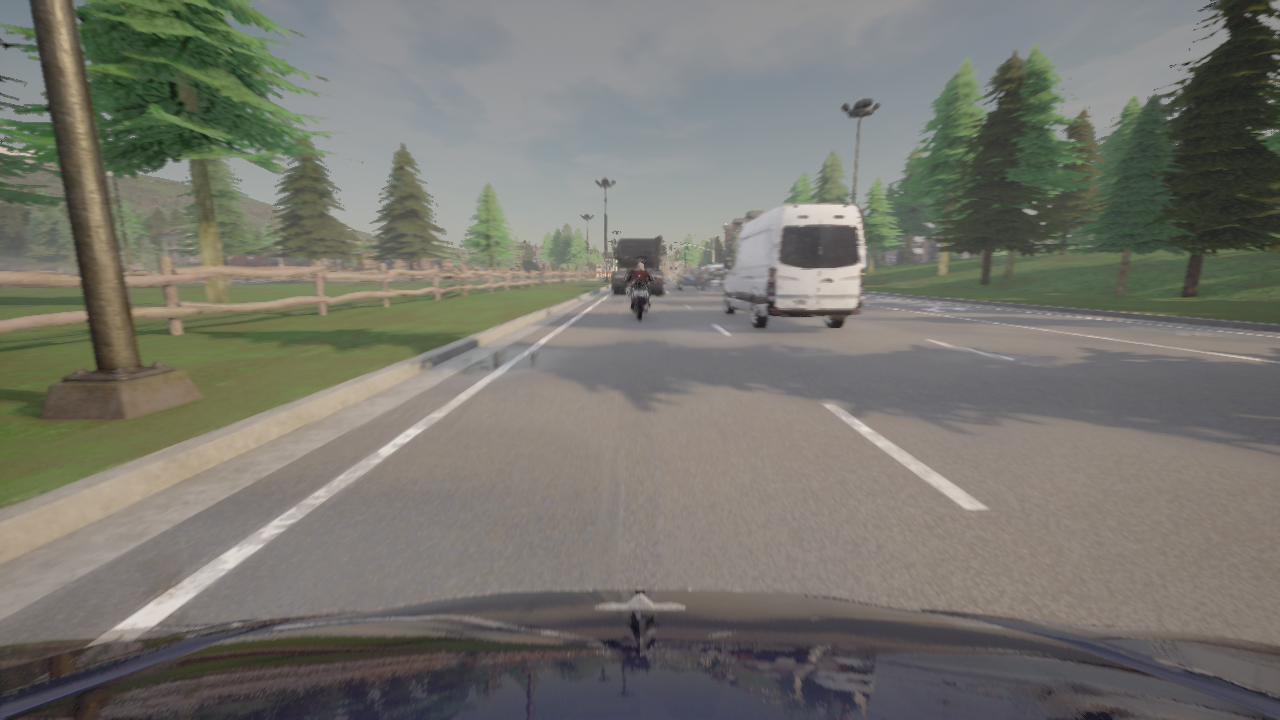cyclist: (0, 588, 1279, 719), (722, 204, 864, 327), (612, 236, 665, 295), (625, 274, 654, 319), (676, 268, 703, 290), (702, 264, 726, 286), (661, 262, 683, 284)
